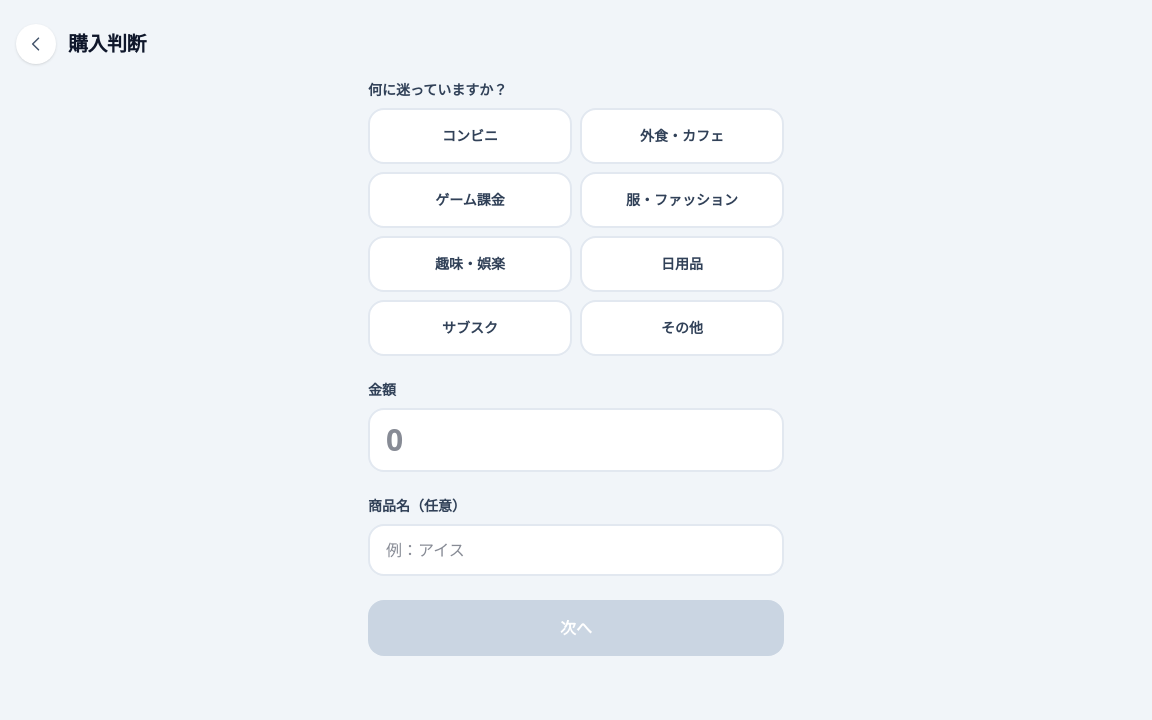
Scenario: 購入判断フロー › 価値尺度・節約目標が未登録でも、一般比較のカードが1枚以上表示される
The width and height of the screenshot is (1152, 720).
Click the button "コンビニ" at (470, 136), box left=368, top=108, right=572, bottom=164
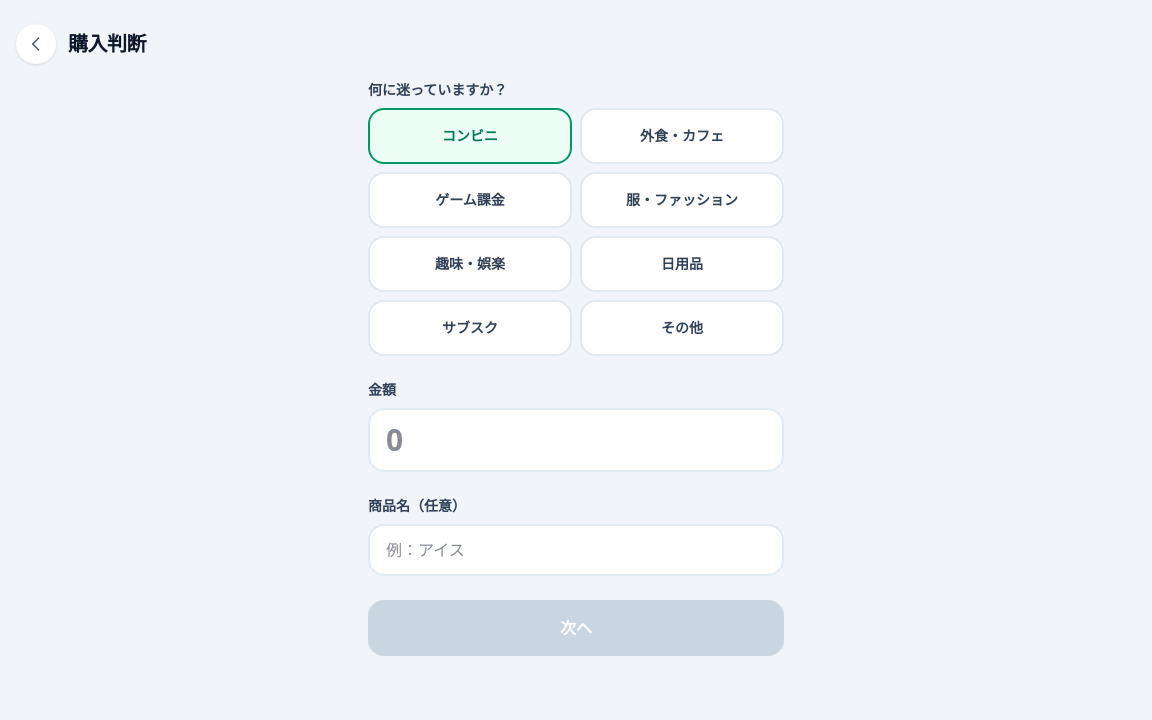
Type "180" into the field labelled "金額" at (576, 440), box left=368, top=408, right=784, bottom=472
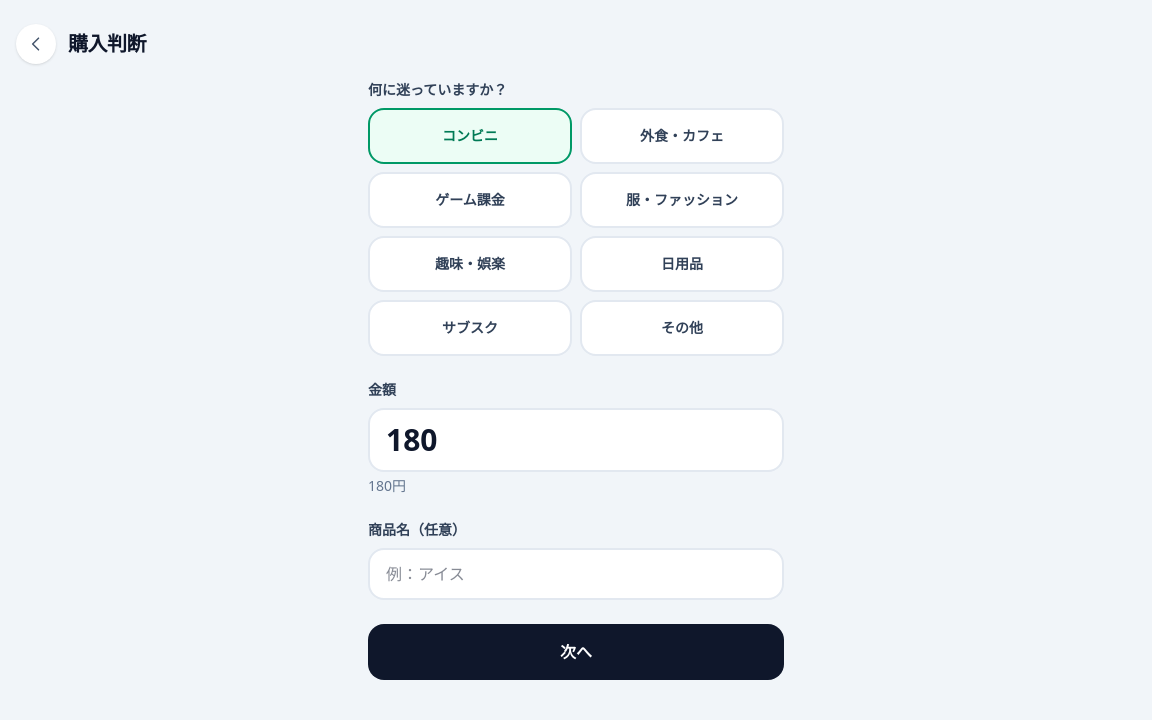
Click the button "次へ" at (576, 652), box left=368, top=624, right=784, bottom=680
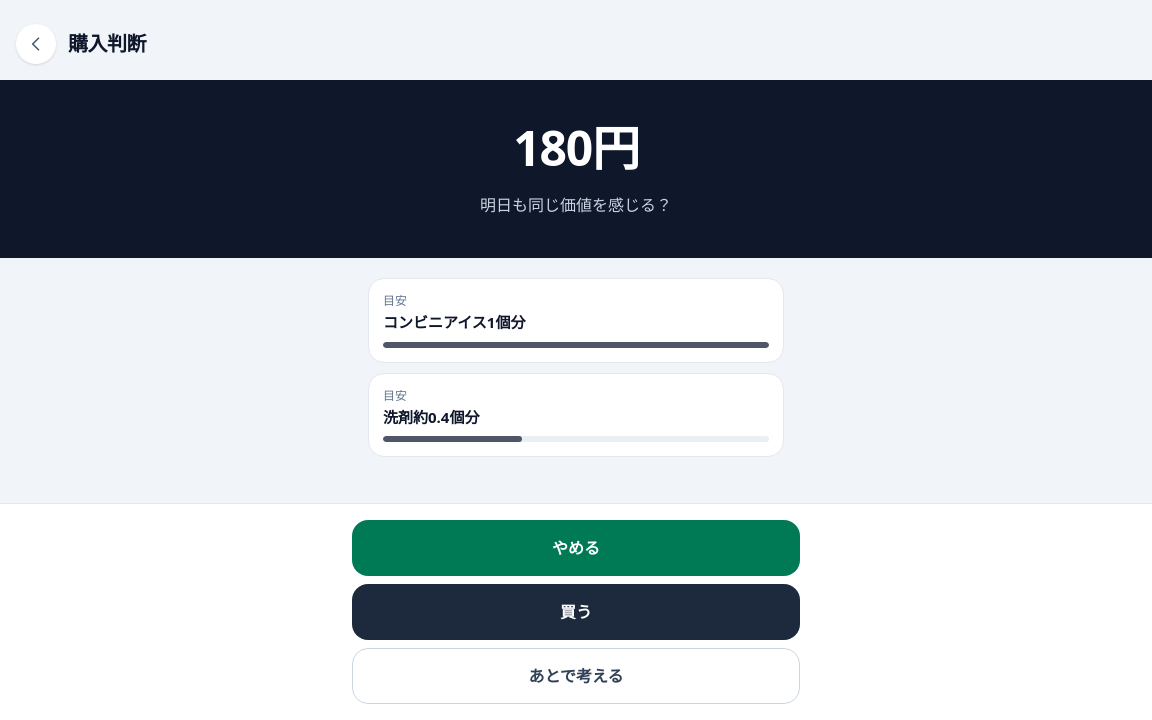
Expected: the 1st text "目安" is shown, left=383, top=292, right=407, bottom=309
